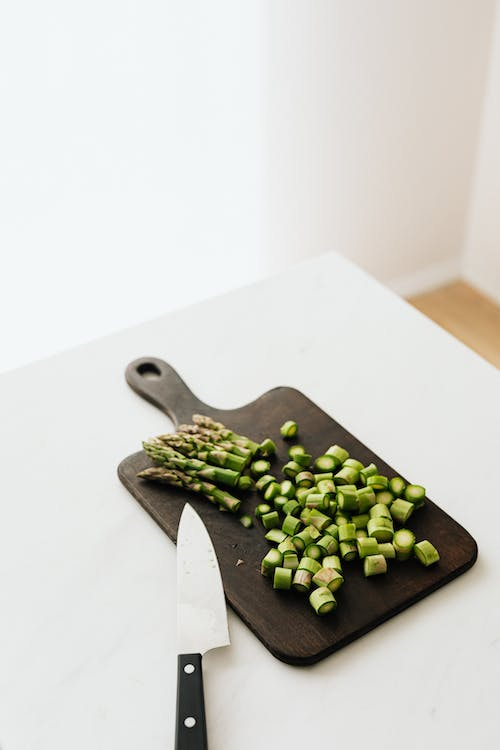knife: (171, 499, 233, 750)
